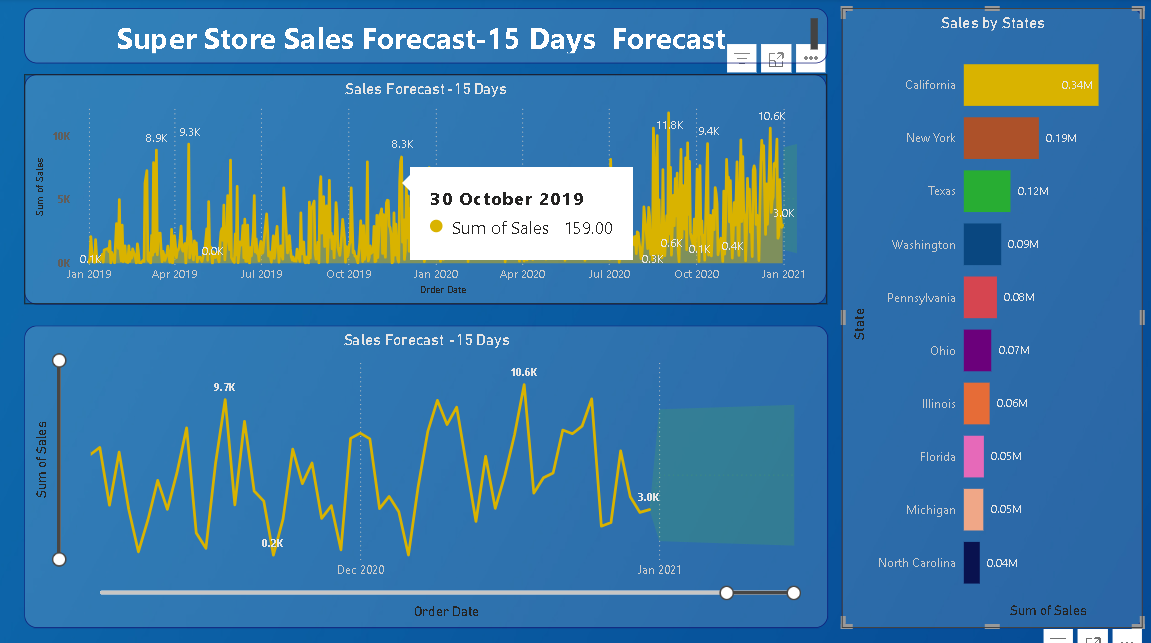

What the dashboard file says about the page in this screenshot:
{"tool":"powerbi","page":{"name":"Page 2","canvas":[1280,720],"ordinal":1},"visuals":[{"type":"lineChart","title":"Sales Forecast-15 Days","fields":{"Y":["Sum(SuperStore_Sales_Dataset.Sales)"],"Category":["SuperStore_Sales_Dataset.Order Date"]},"box":[34.2,83.5,881,253.2],"z":0},{"type":"lineChart","title":"Sales Forecast -15 Days","fields":{"Y":["Sum(SuperStore_Sales_Dataset.Sales)"],"Category":["SuperStore_Sales_Dataset.Order Date"]},"box":[34.2,359.5,882.3,331.6],"z":1000},{"type":"clusteredBarChart","title":"Sales by States","fields":{"Category":["SuperStore_Sales_Dataset.State"],"Y":["Sum(SuperStore_Sales_Dataset.Sales)"]},"box":[949.4,11.4,330.4,679.7],"z":2000},{"type":"textbox","box":[34.2,11.4,882.3,60.8],"z":3000}]}

Visuals, with their boxes in screenshot pixels (x1, y1, x2, y2), scaled from the page's 1280x720 canvas onto the 1151x643 screenshot:
"Sales Forecast-15 Days" lineChart: l=31, t=75, r=823, b=301
"Sales Forecast -15 Days" lineChart: l=31, t=321, r=824, b=617
"Sales by States" clusteredBarChart: l=854, t=10, r=1150, b=617
textbox: l=31, t=10, r=824, b=64
